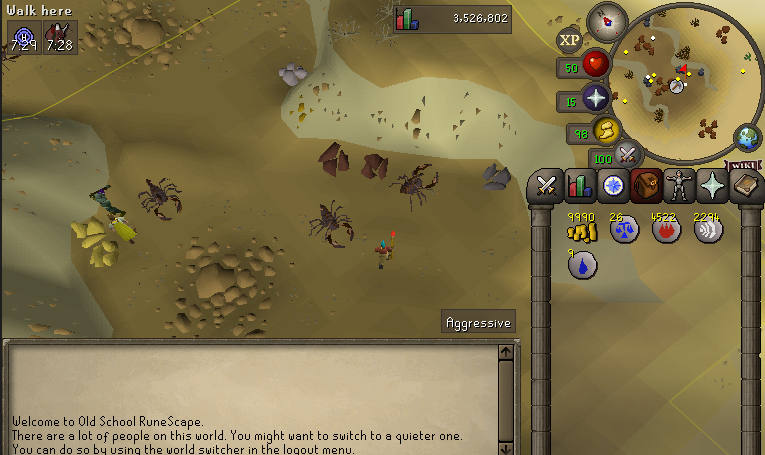depleted: (480, 160, 515, 196)
iron: (317, 142, 352, 181), (361, 150, 392, 184)
